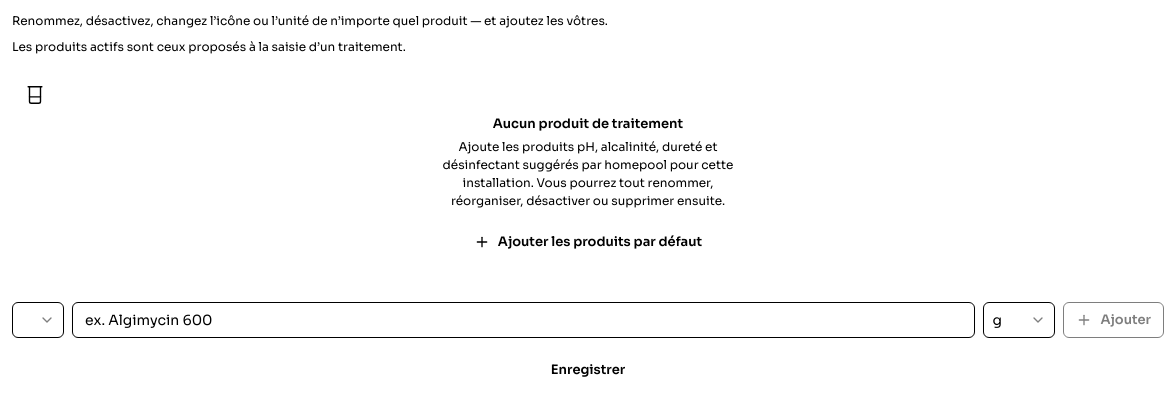
Scenario: TreatmentConfig › offers to add default treatments when the catalog starts empty (opt-in seeding)
expect the text "Aucun produit de traitement" is shown: met, box [493,115,683,132]
Click the button "Ajouter les produits par défaut" at (588, 242), box [458,222,718,262]
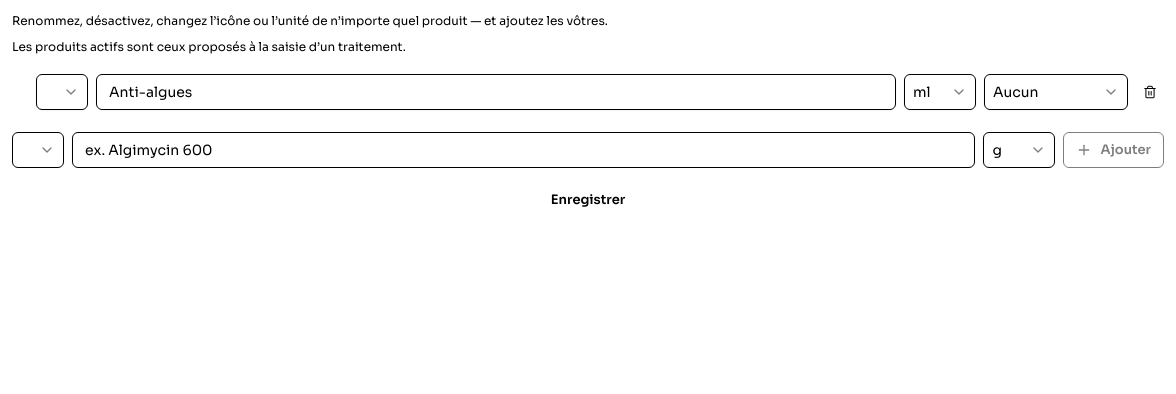
expect the text "Aucun produit de traitement" is gone: met
